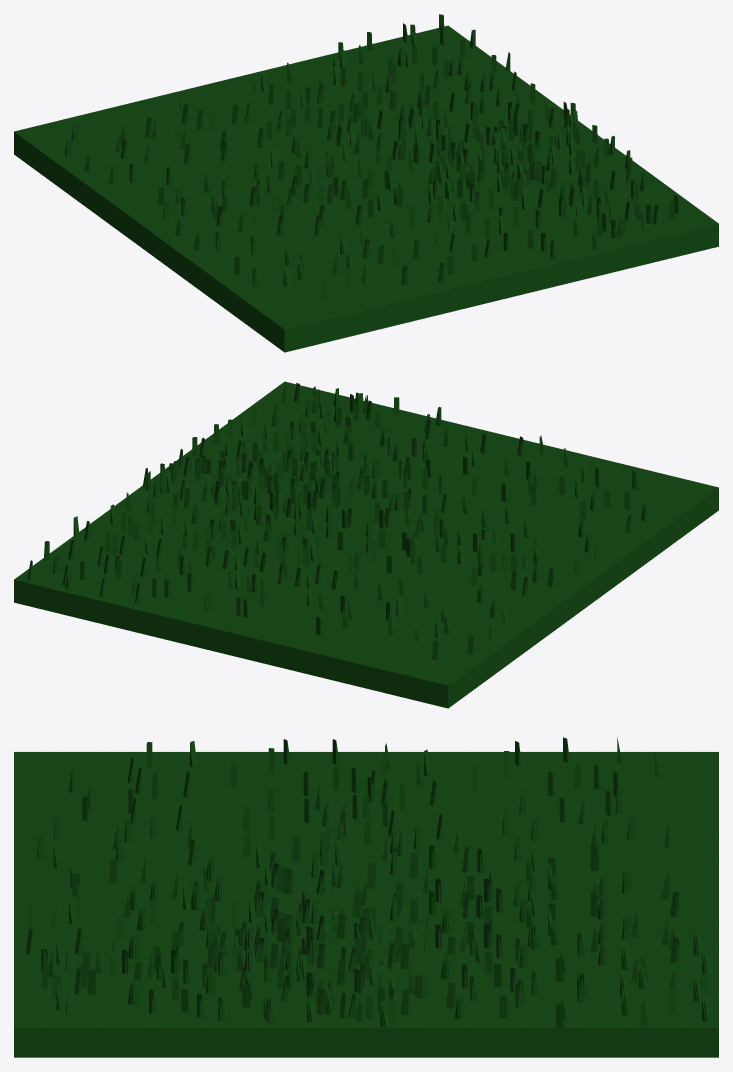
3 views of the same model, one above another, from view 1: azimuth 30°, elevation 25°; view 2: azimuth 150°, elevation 25°; view 3: azimuth 270°, elevation 25° (orthographic). The views are drawn at different scales.
Visible parts, largest first — view 1: Baseplate1, Baseplate2; view 2: Baseplate1, Baseplate2; view 3: Baseplate1, Baseplate2.
Part boxes in pixels (<box>): Baseplate1: <box>14,25,718,352</box>; Baseplate2: <box>16,26,717,328</box>; Baseplate1: <box>14,381,718,708</box>; Baseplate2: <box>15,382,717,684</box>; Baseplate1: <box>14,752,718,1057</box>; Baseplate2: <box>14,752,718,1026</box>.
Bounding box in the file's own units: 61.56 × 5.5 × 66.4.
